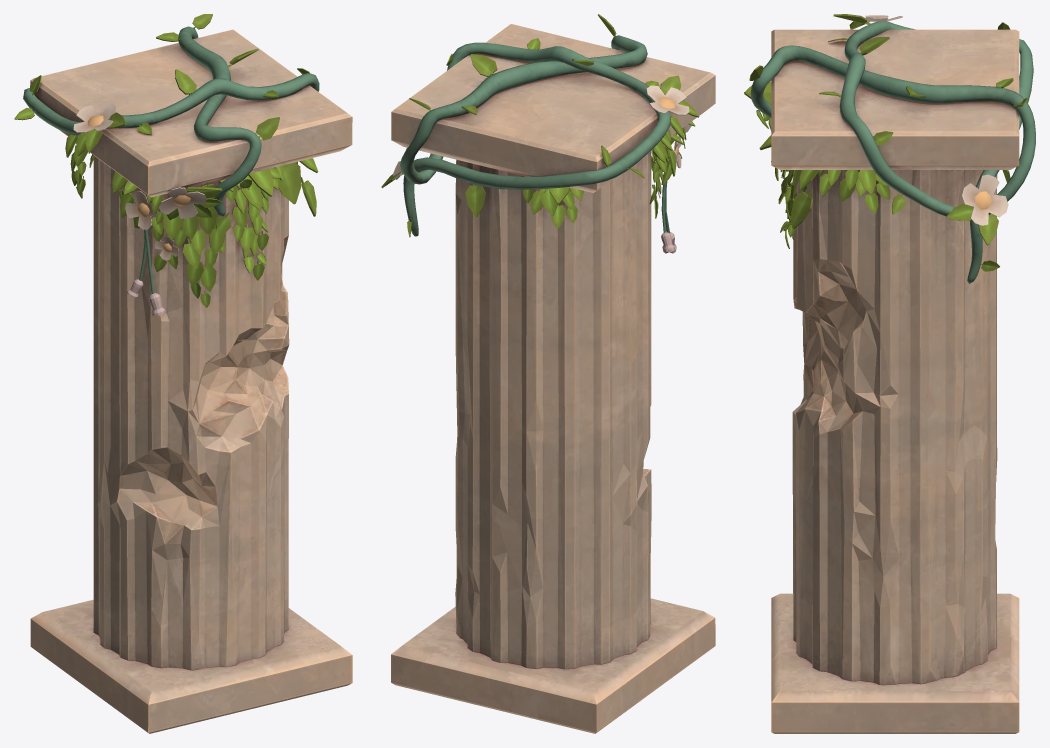
Rendered from stylized_pillar.opt.glb.
3 renders of one model, left to right at view 1: azimuth 30°, elevation 25°; view 2: azimuth 150°, elevation 25°; view 3: azimuth 270°, elevation 25°, orthographic. The views are drawn at different scales.
Visible parts, largest first — view 1: PillarMain, PillarTop, PillarBottom, Leaves, Vine, Flower; view 2: PillarMain, PillarTop, PillarBottom, Vine, Leaves, Flower; view 3: PillarMain, PillarTop, PillarBottom, Vine, Leaves, Flower.
Boxes of the visible parts, x1,y1,x2,y2 form: PillarMain: [93, 155, 289, 670]; PillarTop: [30, 29, 352, 197]; PillarBottom: [30, 599, 352, 733]; Leaves: [14, 14, 318, 307]; Vine: [23, 26, 319, 216]; Flower: [73, 103, 206, 315]; PillarMain: [455, 151, 651, 669]; PillarTop: [391, 24, 715, 192]; PillarBottom: [391, 598, 715, 733]; Vine: [400, 35, 670, 236]; Leaves: [381, 14, 699, 237]; Flower: [393, 85, 691, 253]; PillarMain: [792, 170, 997, 685]; PillarTop: [771, 29, 1019, 169]; PillarBottom: [771, 593, 1019, 733]; Vine: [750, 21, 1035, 283]; Leaves: [744, 14, 1027, 271]; Flower: [770, 15, 1008, 225].
Bounding box in the file's own units: 0.3327 × 0.7396 × 0.3073.
Materials: 1 (1 with a texture image).
